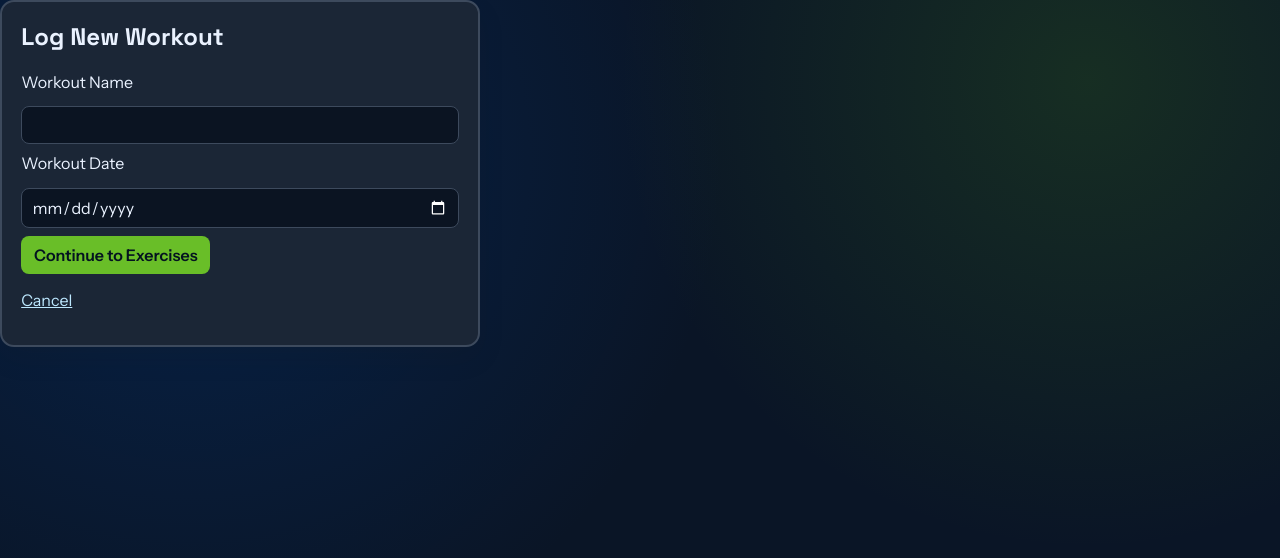
Test: NewWorkoutPage › shows a validation error when name is empty
In the date field labelled "Workout Date": (240, 208) x1=21 y1=188 x2=459 y2=228, type "2026-06-01"
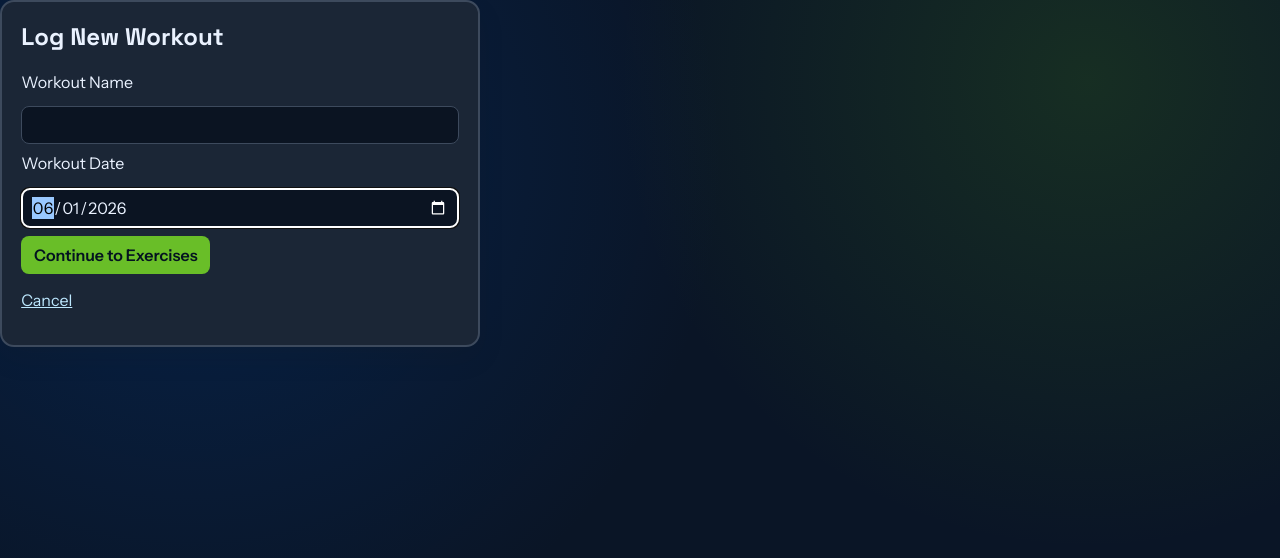
Click the button "Continue to Exercises": (116, 255) x1=21 y1=236 x2=210 y2=274
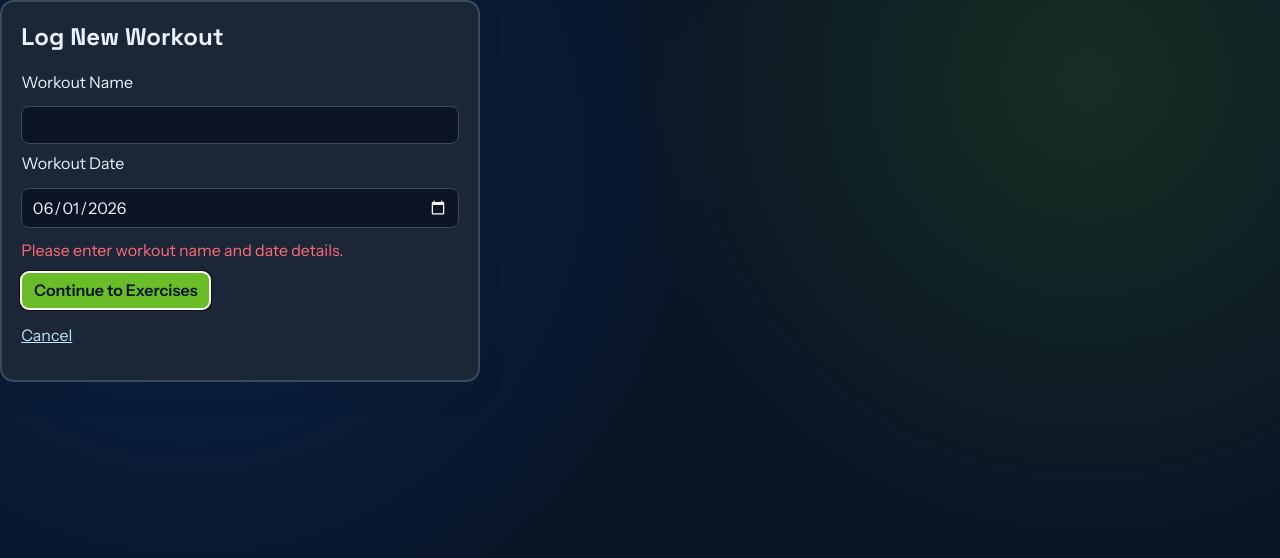
expect the text "Please enter workout name and date details." is shown: met, box x1=21 y1=240 x2=343 y2=260
